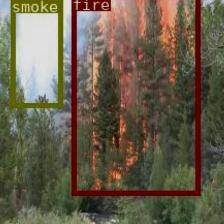fire: (71, 0, 198, 194)
smoke: (10, 0, 62, 107)
